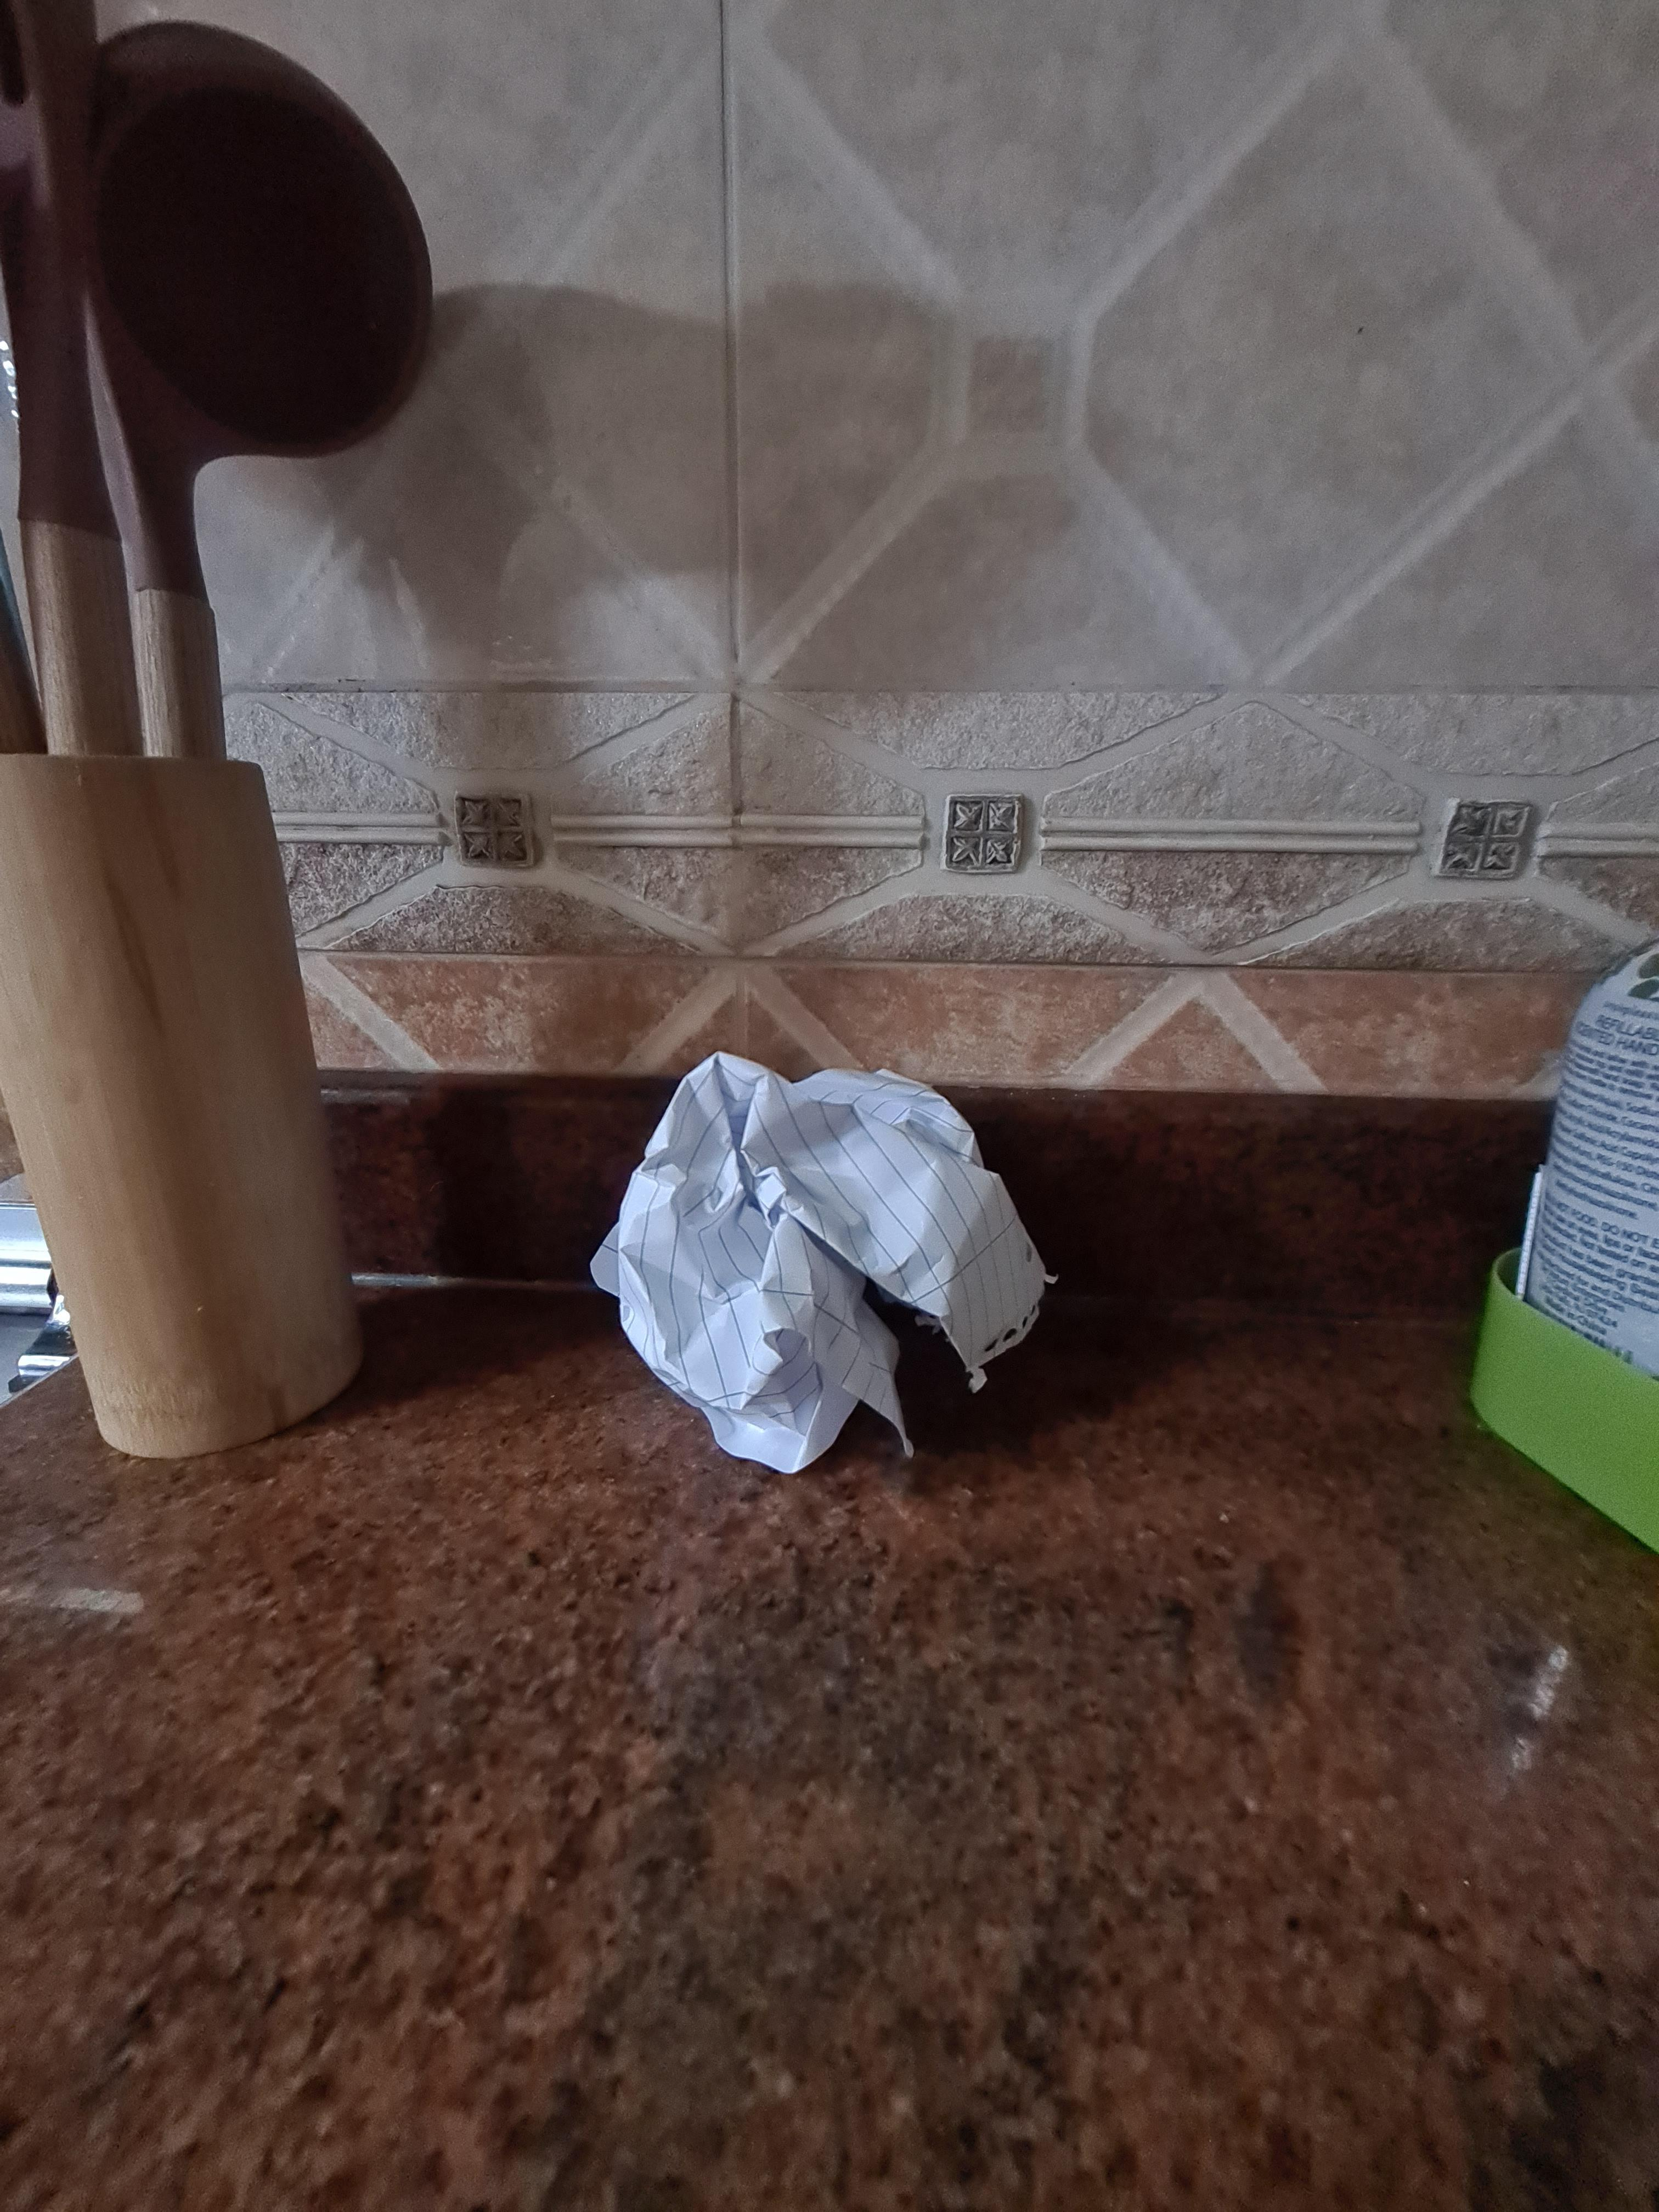Paper: (588, 1027, 1050, 1505)
